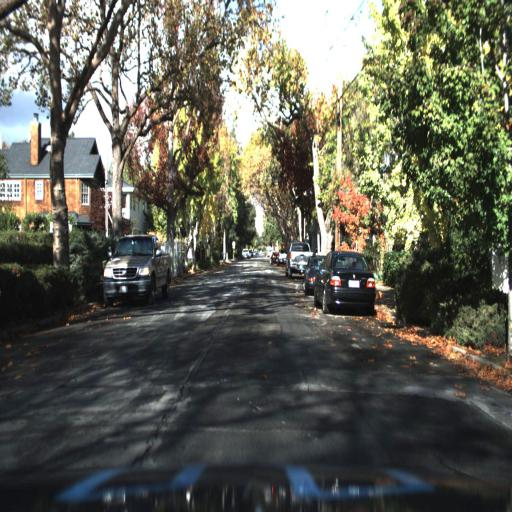car: (99, 236, 168, 311), (312, 250, 380, 311), (282, 234, 314, 280), (289, 242, 306, 281), (304, 257, 317, 300), (269, 251, 278, 268)
